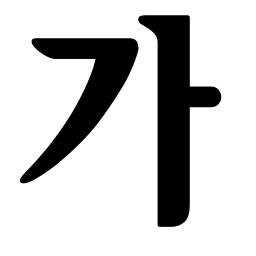Gaji: (145, 74, 209, 126)
